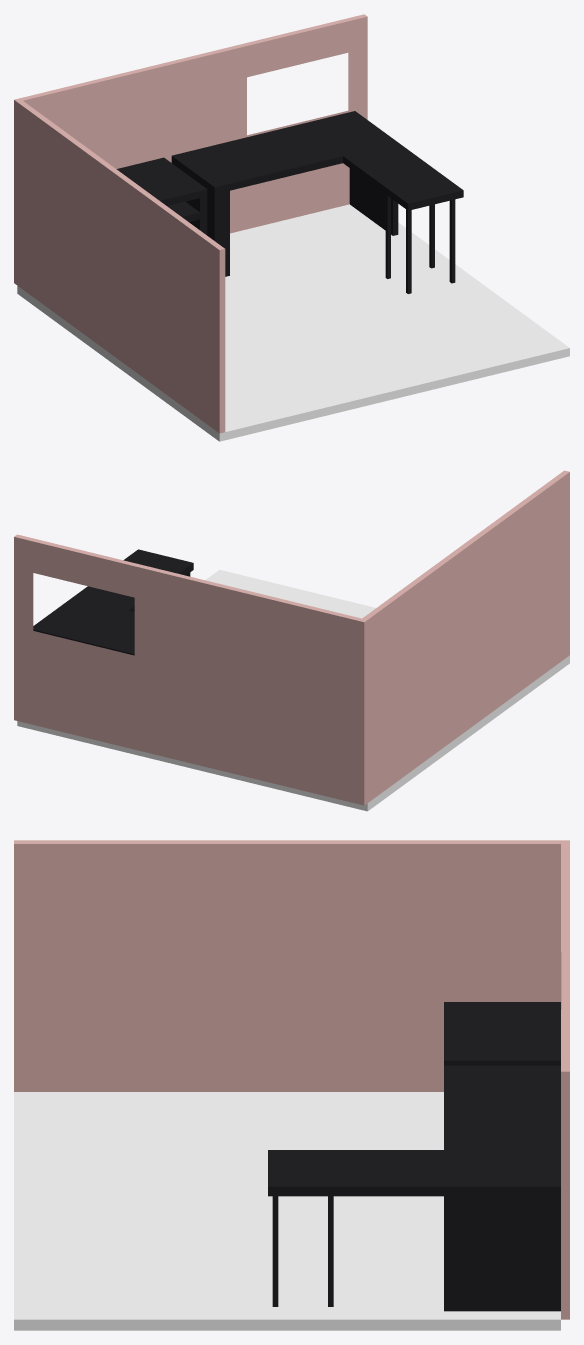
The model's file is HorribleRoom.glb.
3 renders of one model, top to bottom at view 1: azimuth 30°, elevation 25°; view 2: azimuth 150°, elevation 25°; view 3: azimuth 270°, elevation 25°, orthographic. The views are drawn at different scales.
Visible parts, largest first — view 1: Floor, SideWall, FrontWall, Desk, SideDesk; view 2: FrontWall, SideWall, Floor, Desk; view 3: SideWall, Floor, Desk, SideDesk, FrontWall.
Boxes of the visible parts, x1,y1,x2,y2 form: Floor: (17,204,569,441); SideWall: (17,101,225,433); FrontWall: (14,14,367,284); Desk: (171,111,463,293); SideDesk: (116,157,207,235); FrontWall: (14,534,367,805); SideWall: (362,470,569,802); Floor: (17,569,569,811); Desk: (33,549,193,655); SideWall: (14,840,560,1091); Floor: (14,1092,560,1330); Desk: (268,1065,560,1311); SideDesk: (444,1002,560,1065); FrontWall: (561,840,569,1319).
Size of the model in its own units: 4 by 2.09 by 4.07.
